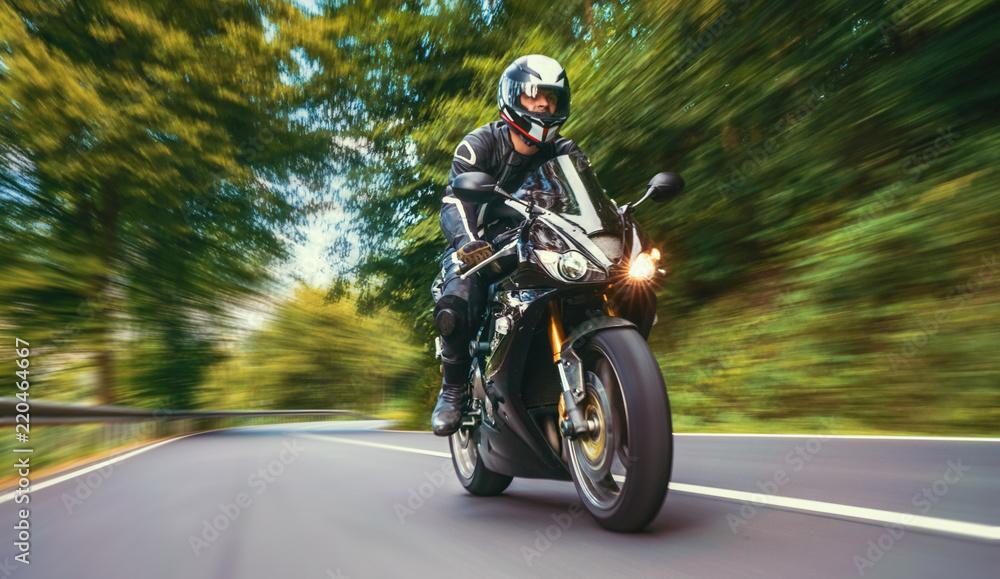helmet: (496, 53, 571, 150)
